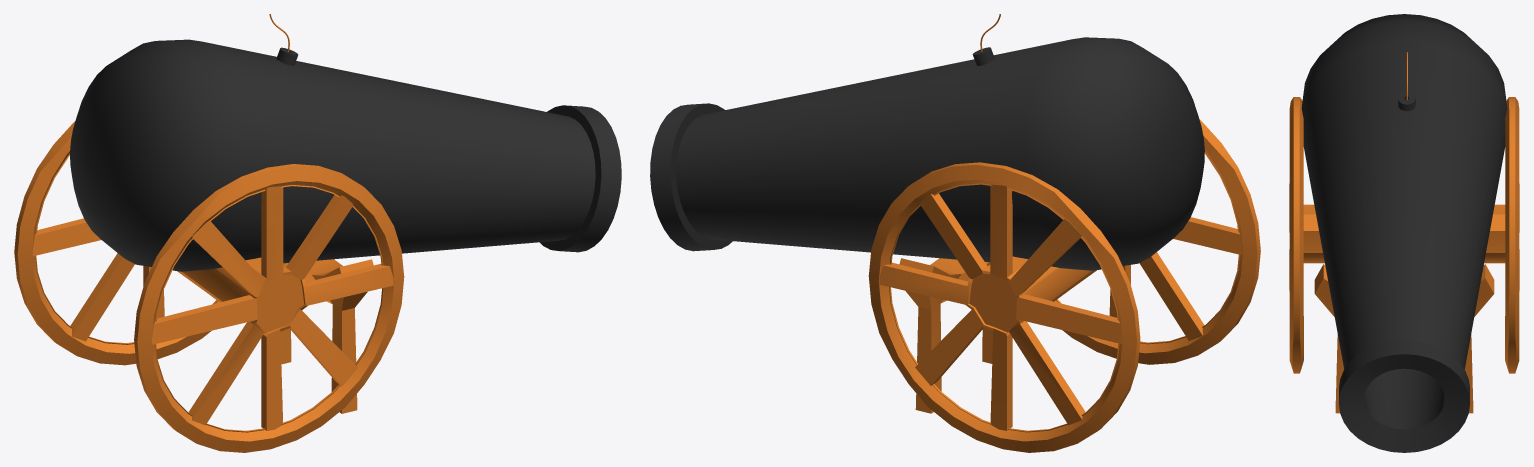
File: CanonWar 1.fbx
3 renders of one model, left to right at view 1: azimuth 30°, elevation 25°; view 2: azimuth 150°, elevation 25°; view 3: azimuth 270°, elevation 25°, orthographic. The views are drawn at different scales.
Parts seen in each view (by area): view 1: Circle.002; view 2: Circle.002; view 3: Circle.002.
Part boxes in pixels (<box>): Circle.002: <box>14,14,621,452</box>; Circle.002: <box>650,14,1260,452</box>; Circle.002: <box>1289,14,1519,452</box>.
Size of the model in its own units: 469 by 324 by 199.
